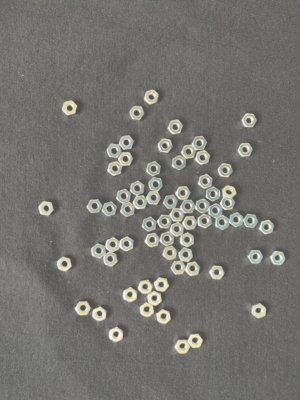nut: (251, 303, 267, 319), (154, 277, 170, 293), (62, 100, 78, 116), (175, 339, 191, 354), (188, 334, 204, 349), (157, 309, 172, 325), (148, 291, 163, 307), (185, 262, 201, 277), (170, 222, 185, 238), (259, 220, 275, 235), (102, 202, 118, 217), (199, 174, 214, 190), (218, 163, 234, 178), (238, 143, 254, 158), (118, 152, 134, 167), (107, 144, 123, 159), (119, 136, 135, 151), (270, 252, 287, 266), (241, 114, 258, 128), (57, 257, 72, 272), (210, 266, 225, 281), (91, 244, 106, 259), (120, 237, 135, 252), (163, 246, 178, 261), (160, 232, 175, 247), (180, 233, 195, 248), (244, 214, 259, 229), (196, 199, 211, 214), (206, 187, 221, 202), (130, 181, 145, 196), (149, 177, 164, 192), (147, 162, 162, 177), (108, 162, 123, 177), (158, 139, 173, 154), (168, 120, 183, 135), (130, 106, 145, 121), (110, 327, 124, 343), (140, 302, 154, 318), (216, 215, 230, 231), (87, 200, 103, 214), (163, 195, 179, 209), (195, 151, 211, 165), (181, 145, 197, 159), (192, 137, 208, 151), (93, 307, 107, 322), (76, 302, 91, 316), (124, 288, 138, 303), (139, 280, 153, 295), (171, 261, 186, 275), (104, 252, 118, 267), (106, 238, 120, 253), (179, 248, 193, 263), (146, 233, 160, 248), (230, 213, 244, 228), (198, 214, 212, 229), (183, 217, 198, 231), (143, 218, 158, 232), (181, 200, 196, 214), (209, 204, 223, 219), (222, 186, 237, 200), (39, 202, 54, 216), (121, 202, 135, 217), (133, 196, 148, 210), (117, 189, 131, 204), (147, 191, 162, 205), (173, 156, 187, 171), (145, 90, 159, 105), (248, 251, 264, 264), (170, 209, 185, 222), (220, 198, 235, 211), (176, 187, 191, 200), (158, 216, 172, 229)
